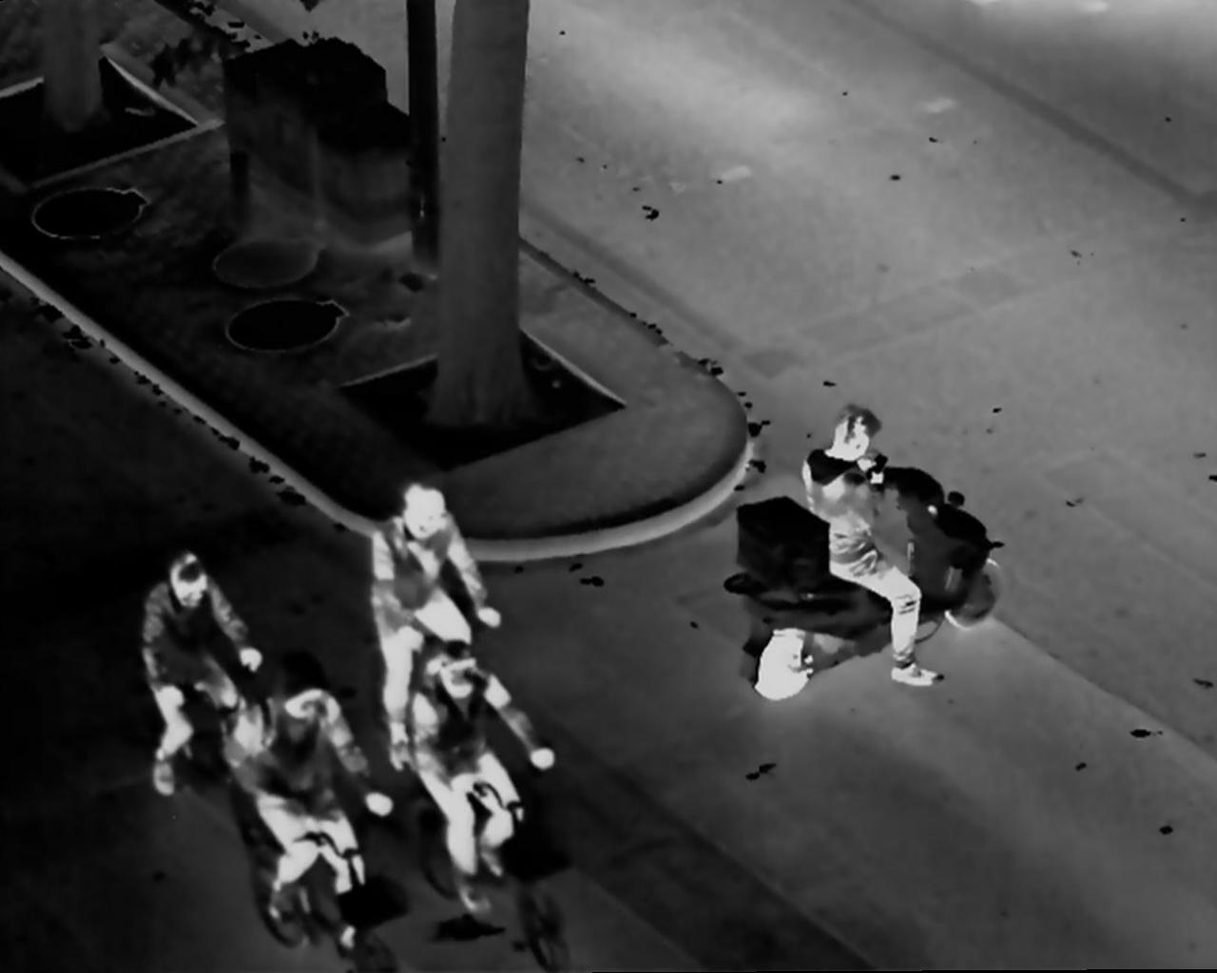person: (241, 647, 395, 942), (800, 388, 947, 697), (412, 639, 558, 917), (368, 486, 512, 765), (138, 549, 265, 802)
